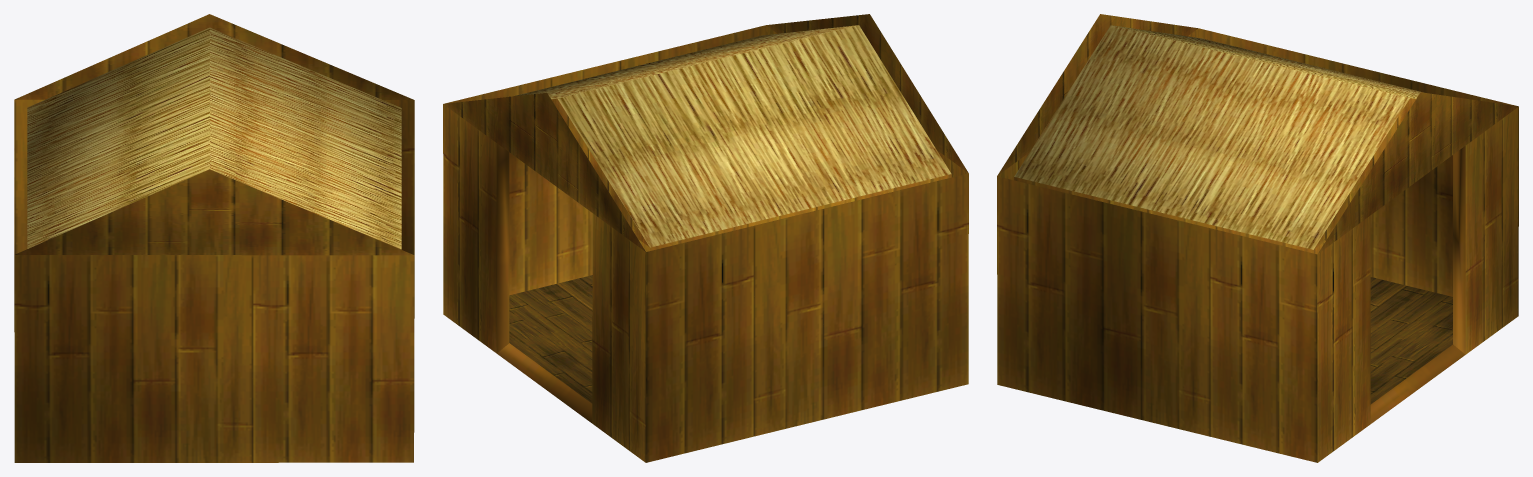
Rendered from HTOWN01_HANNASHED.fbx.
The picture shows the model from 3 angles, left to right: view 1: azimuth 30°, elevation 25°; view 2: azimuth 150°, elevation 25°; view 3: azimuth 270°, elevation 25°; orthographic projection.
Parts seen in each view (by area): view 1: HTOWN01_HANNASHED; view 2: HTOWN01_HANNASHED; view 3: HTOWN01_HANNASHED.
Boxes of the visible parts, x1=… form: HTOWN01_HANNASHED: x1=14, y1=14, x2=414, y2=462; HTOWN01_HANNASHED: x1=443, y1=14, x2=968, y2=462; HTOWN01_HANNASHED: x1=997, y1=14, x2=1518, y2=462.
Size of the model in its own units: 45269 by 27657 by 44240.
3 materials, 3 textured.
